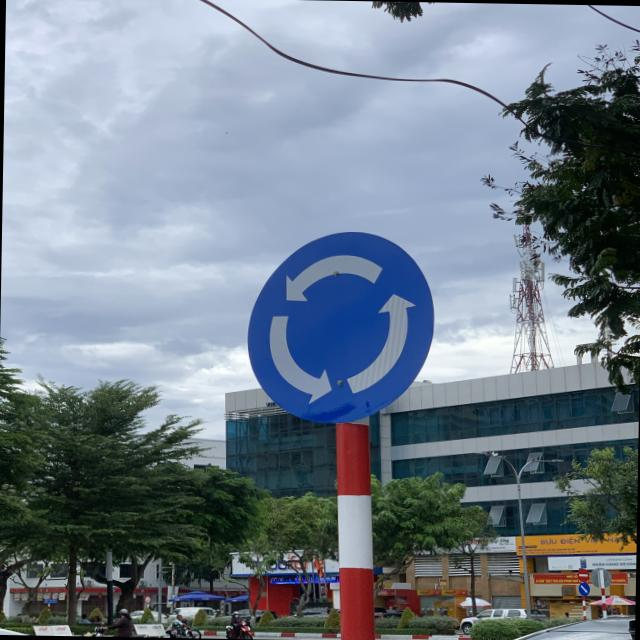Xe_Bus: (248, 228, 437, 429)
